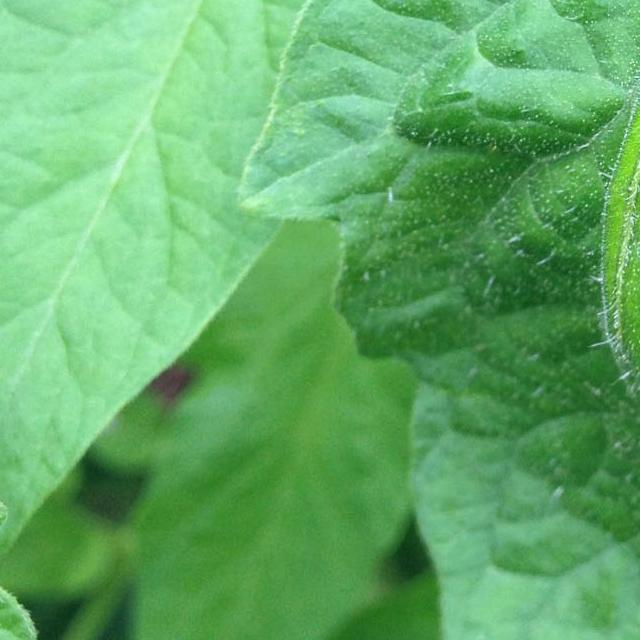Tomato leaf late blight: (268, 0, 640, 640)
